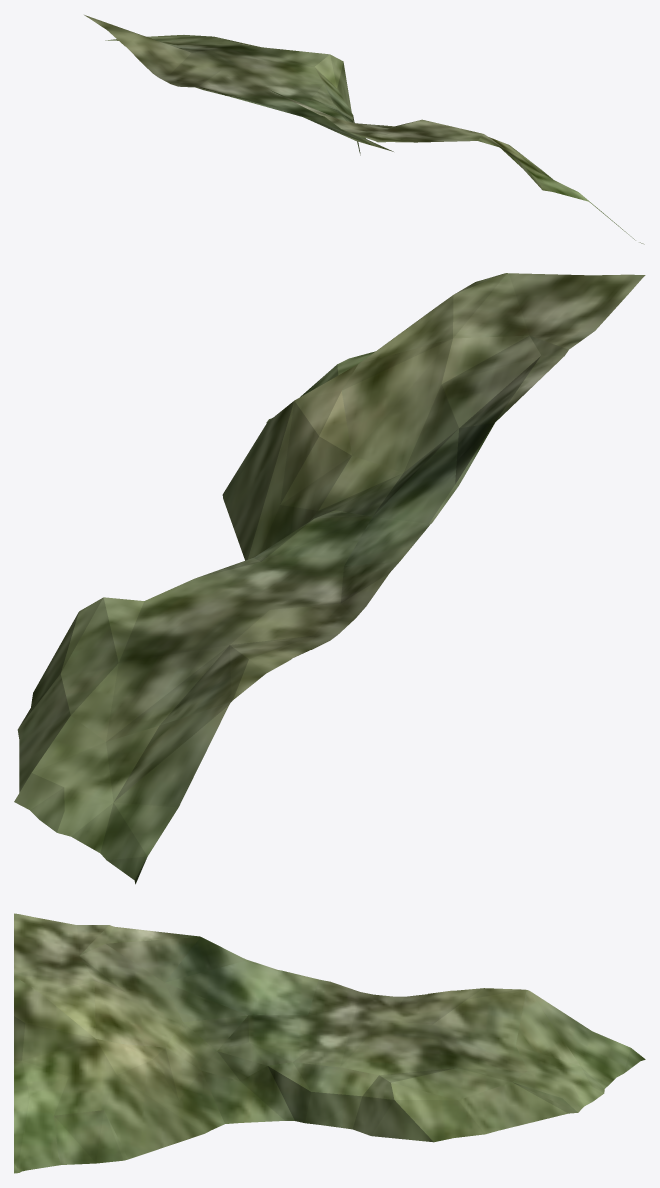
3 views of the same model, one above another, from view 1: azimuth 30°, elevation 25°; view 2: azimuth 150°, elevation 25°; view 3: azimuth 270°, elevation 25° (orthographic). The views are drawn at different scales.
Size of the model in its own units: 1.03 by 0.6182 by 2.42.
Materials: 1 (1 with a texture image).
